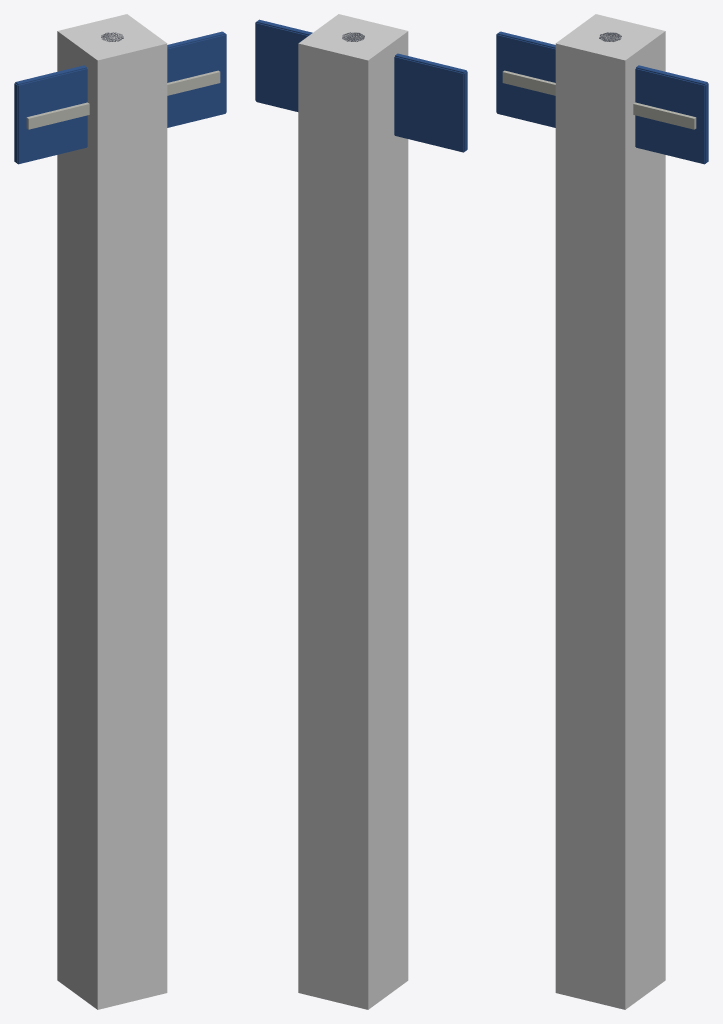
File: sign_street.glb
3 renders of one model, left to right at view 1: azimuth 30°, elevation 25°; view 2: azimuth 150°, elevation 25°; view 3: azimuth 330°, elevation 25°, orthographic.
Visible parts, largest first — view 1: sign_street-col, sign_street_mesh; view 2: sign_street-col, sign_street_mesh; view 3: sign_street-col, sign_street_mesh.
Boxes of the visible parts, left/top/right/bottom form: sign_street-col: left=57, top=14, right=167, bottom=1009; sign_street_mesh: left=14, top=31, right=226, bottom=164; sign_street-col: left=298, top=14, right=408, bottom=1009; sign_street_mesh: left=255, top=19, right=467, bottom=152; sign_street-col: left=555, top=14, right=665, bottom=1009; sign_street_mesh: left=496, top=31, right=708, bottom=164.
Bounding box in the file's own units: 0.6 × 2.6 × 0.2.
